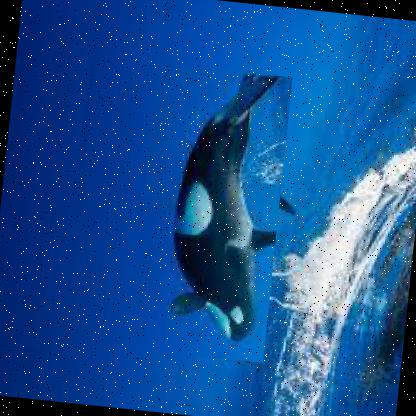killer_whale: (118, 61, 291, 362)
